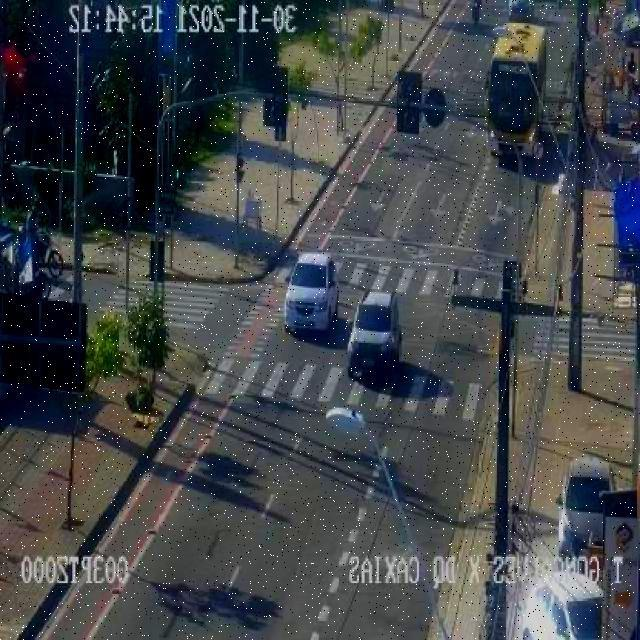Bus: (482, 20, 562, 156)
Car: (559, 447, 623, 567), (514, 570, 606, 639), (346, 292, 404, 376), (283, 251, 340, 331)
Cycle: (33, 230, 76, 290)
